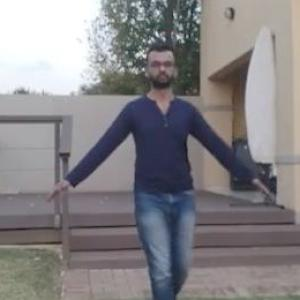land: (52, 53, 246, 299)
